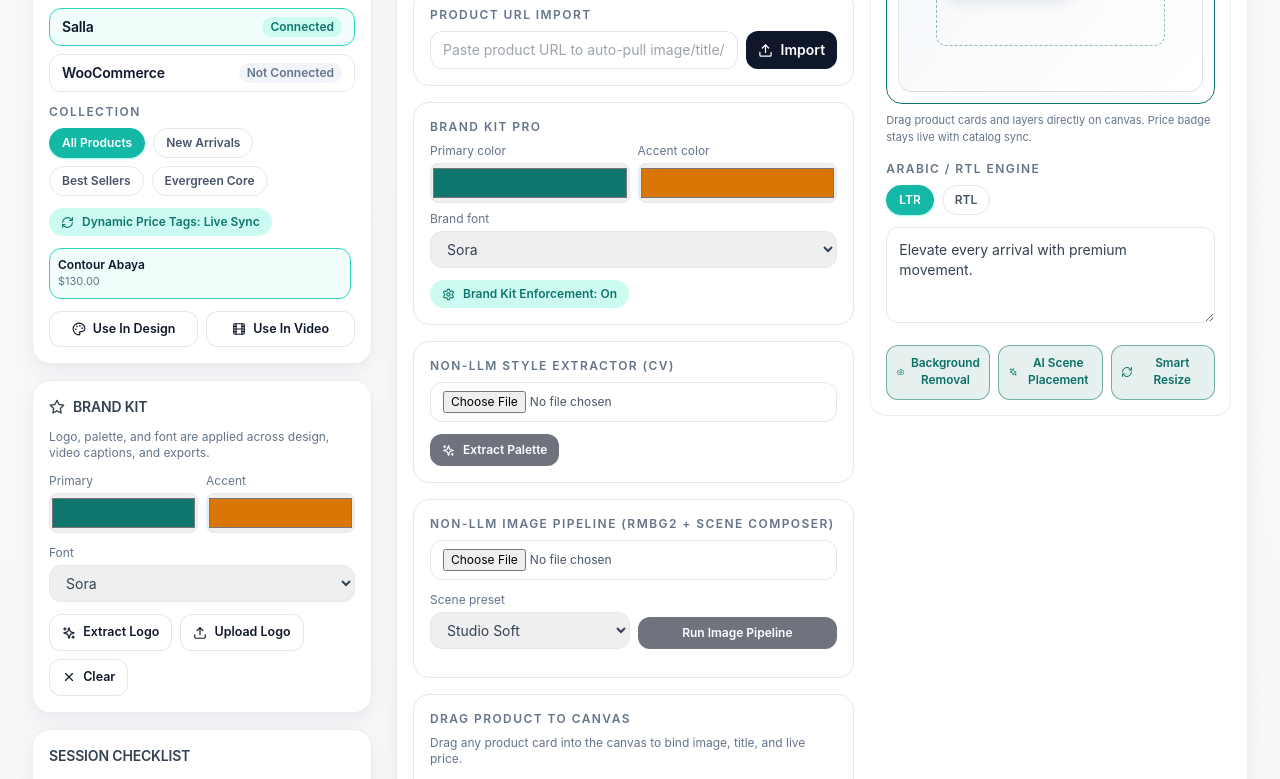
Test: CreativeProductionOS › routes Product Hub actions into design and video modules without step coupling
The image size is (1280, 779).
(page scrolled)
Step 1. Click the button "Use In Video" → (280, 329), box [206,311,355,347]
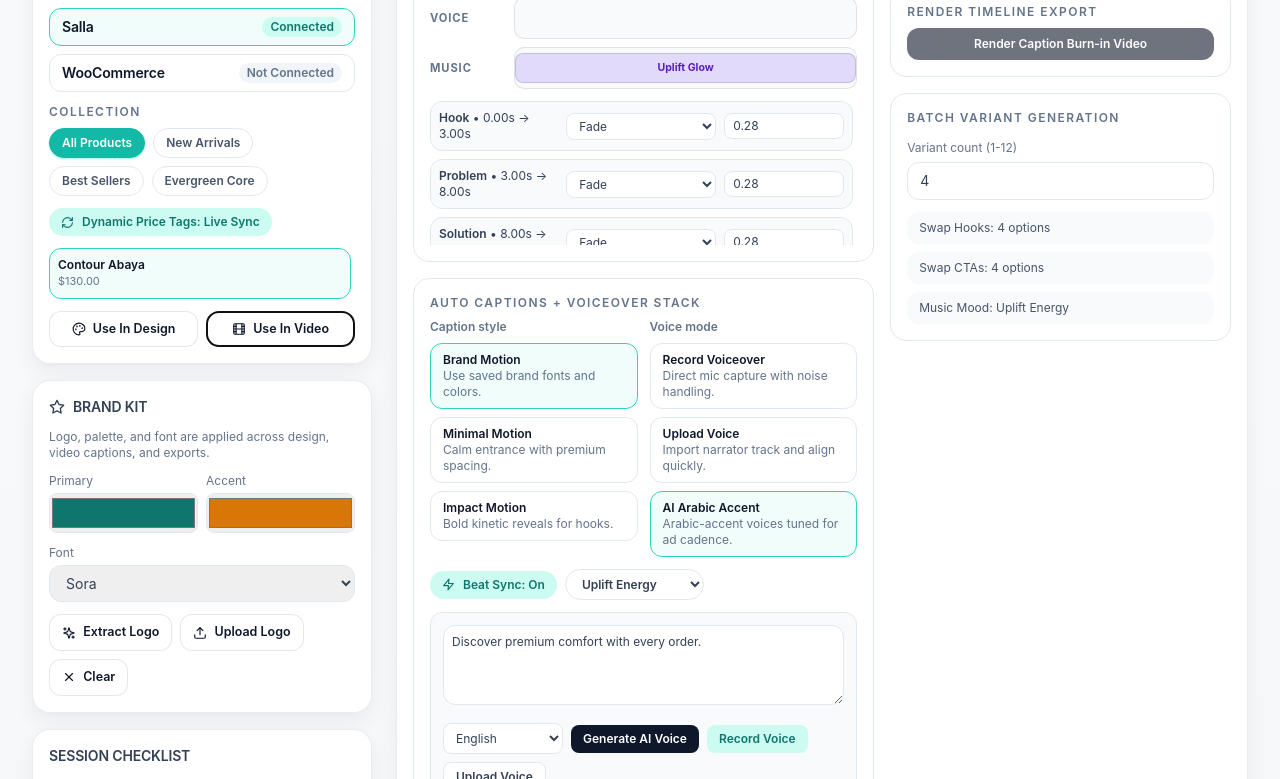
Step 2. Click the button "Use In Design" → (124, 329), box [49,311,198,347]
(page scrolled)
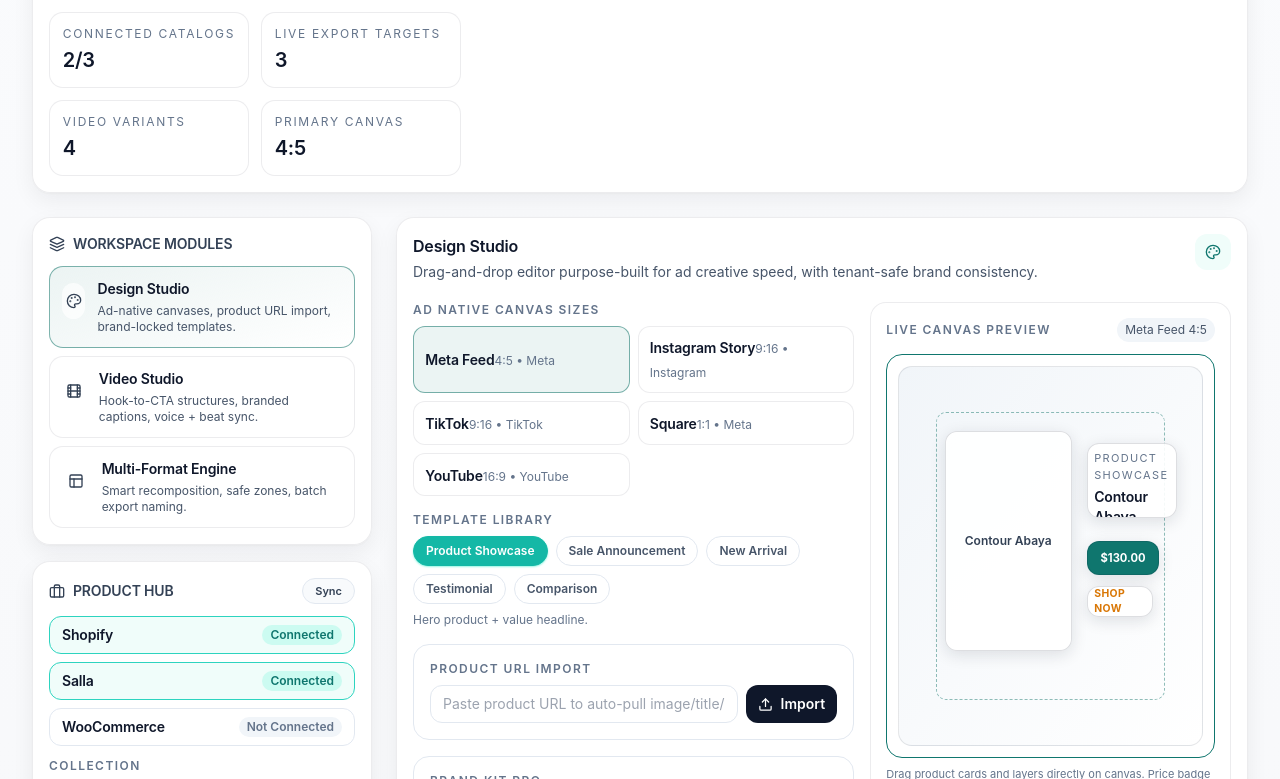
Now the text "Live Canvas Preview" is shown, box [886,322,1051,338]
